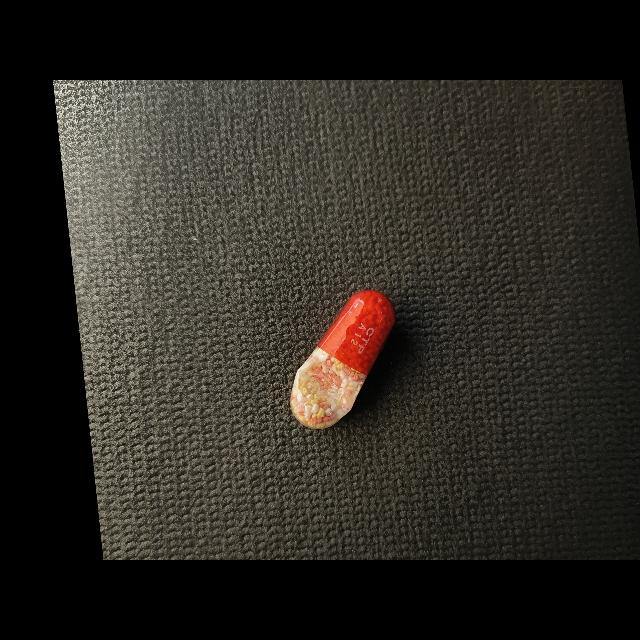Defective Capsule: (290, 290, 395, 429)
